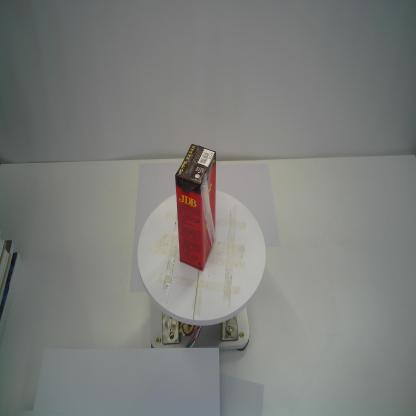Drink: (174, 145, 216, 274)
